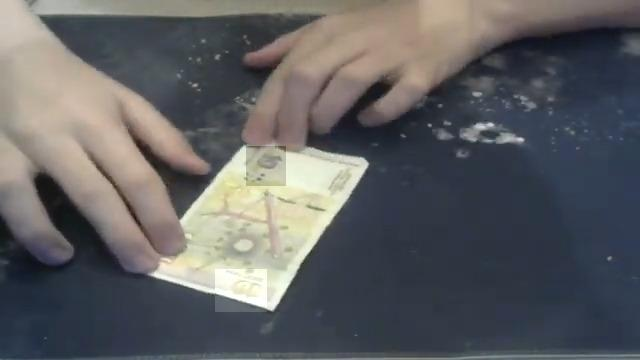10leva: (216, 269, 267, 312), (246, 146, 286, 186)
